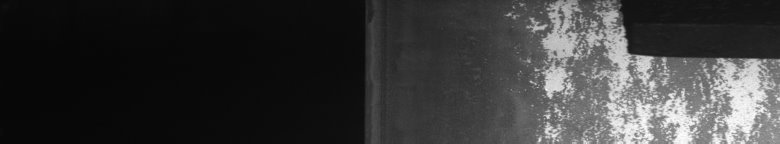kb: (504, 4, 776, 136)
